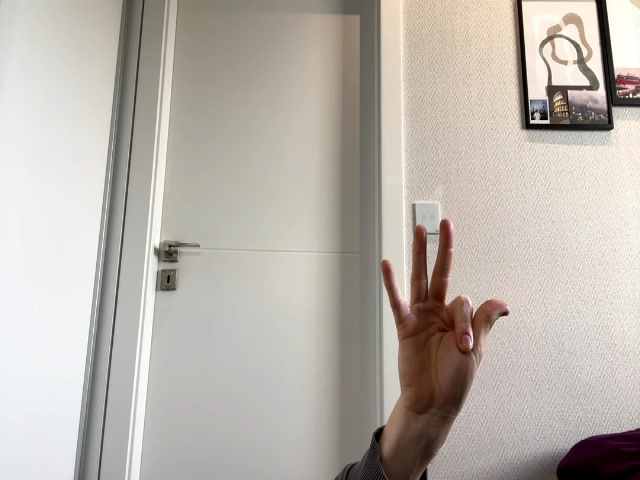F: (381, 221, 512, 422)
